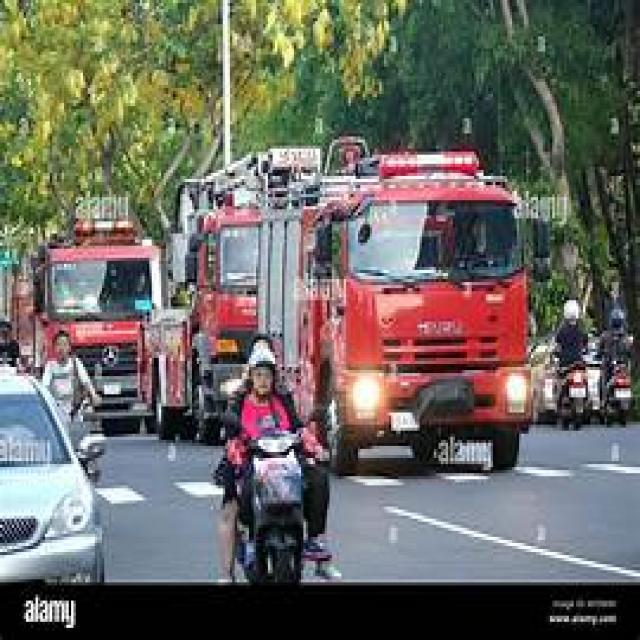Fire-engine: (26, 194, 166, 434)
